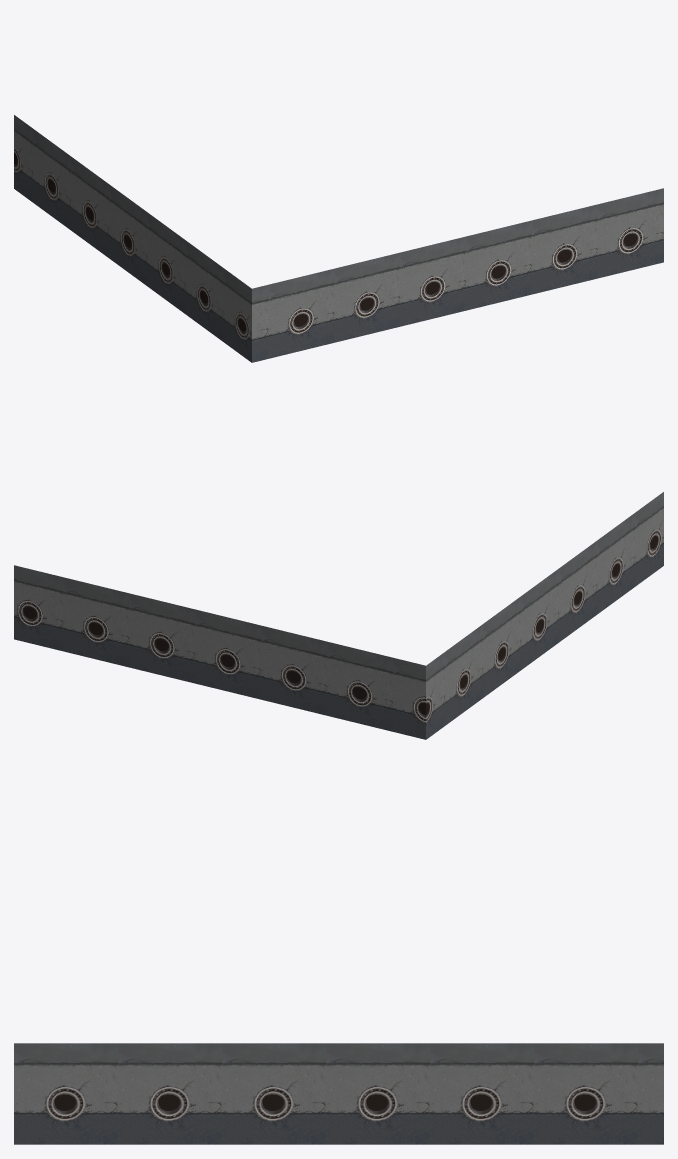
3 renders of one model, top to bottom at view 1: azimuth 30°, elevation 25°; view 2: azimuth 150°, elevation 25°; view 3: azimuth 270°, elevation 25°, orthographic. The views are drawn at different scales.
Parts seen in each view (by area): view 1: Joint_0_Object_0; view 2: Joint_0_Object_0; view 3: Joint_0_Object_0.
Boxes of the visible parts, x1,y1,x2,y2 form: Joint_0_Object_0: [14, 115, 663, 362]; Joint_0_Object_0: [14, 492, 663, 739]; Joint_0_Object_0: [14, 1043, 663, 1144].
Bounding box in the file's own units: 10000 × 1721 × 10000.
Materials: 1 (1 with a texture image).
